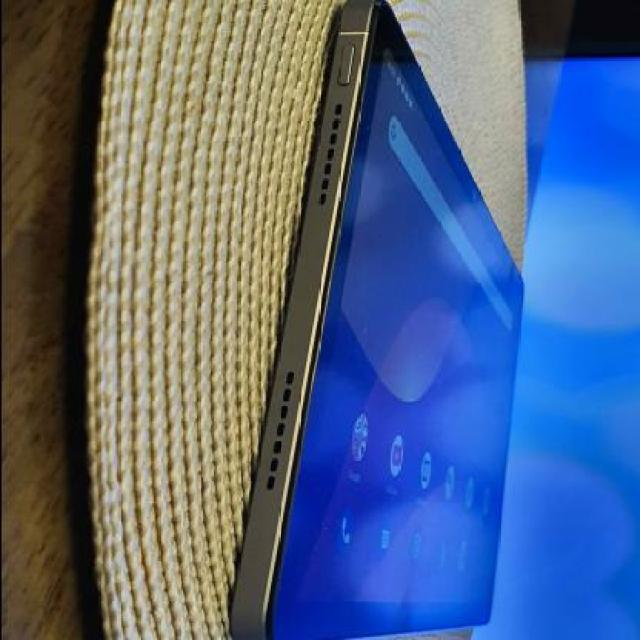tablet: (234, 0, 546, 640)
